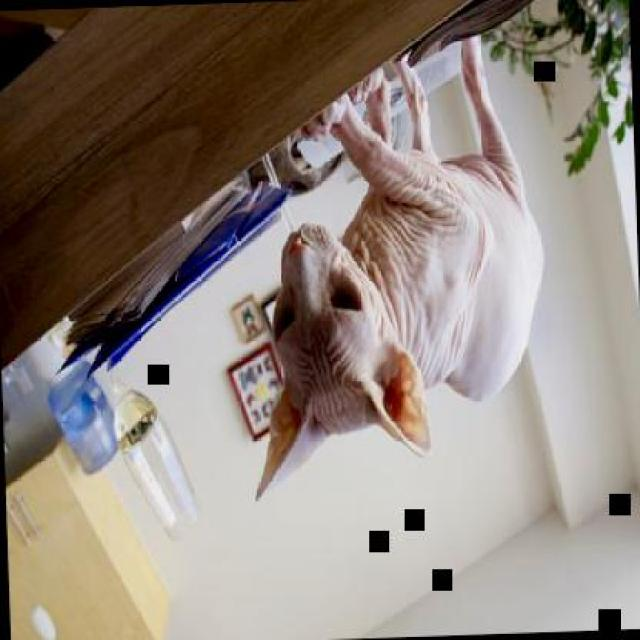cat: (238, 33, 552, 504)
